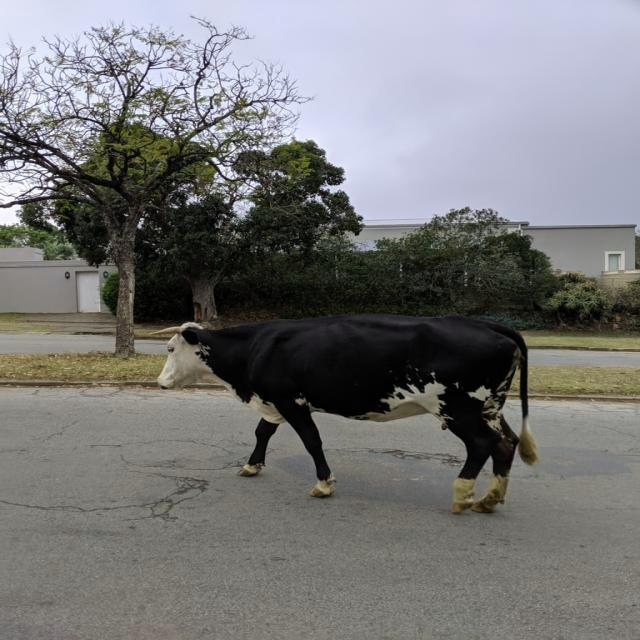cow: (158, 315, 538, 512)
